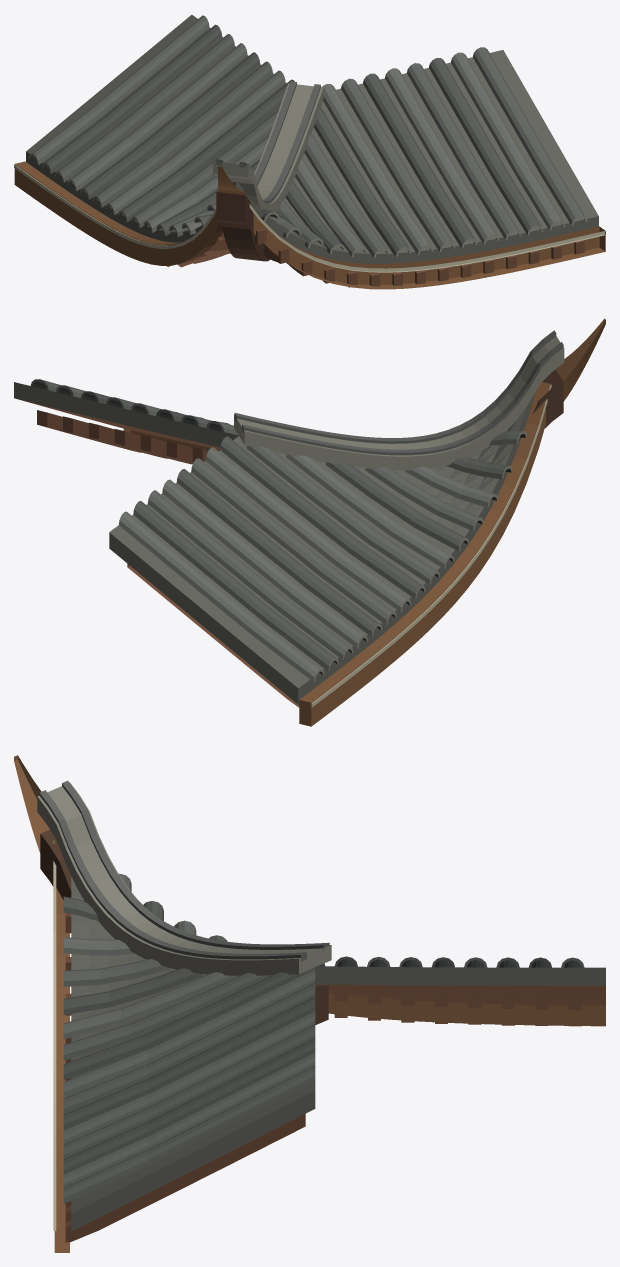
File: changning-hongqiaoyuan-east-upturned-eave-corner-lod.glb
The picture shows the model from 3 angles, top to bottom: view 1: azimuth 30°, elevation 25°; view 2: azimuth 150°, elevation 25°; view 3: azimuth 270°, elevation 25°; orthographic projection. The views are drawn at different scales.
Parts seen in each view (by area): view 1: 虹桥源一号东楼歇山顶翘角与瓦垄; view 2: 虹桥源一号东楼歇山顶翘角与瓦垄; view 3: 虹桥源一号东楼歇山顶翘角与瓦垄.
Boxes of the visible parts, left/top/right/bottom form: 虹桥源一号东楼歇山顶翘角与瓦垄: left=14, top=14, right=605, bottom=289; 虹桥源一号东楼歇山顶翘角与瓦垄: left=14, top=318, right=605, bottom=726; 虹桥源一号东楼歇山顶翘角与瓦垄: left=14, top=755, right=605, bottom=1252.
Size of the model in its own units: 2.16 by 1 by 2.16.
